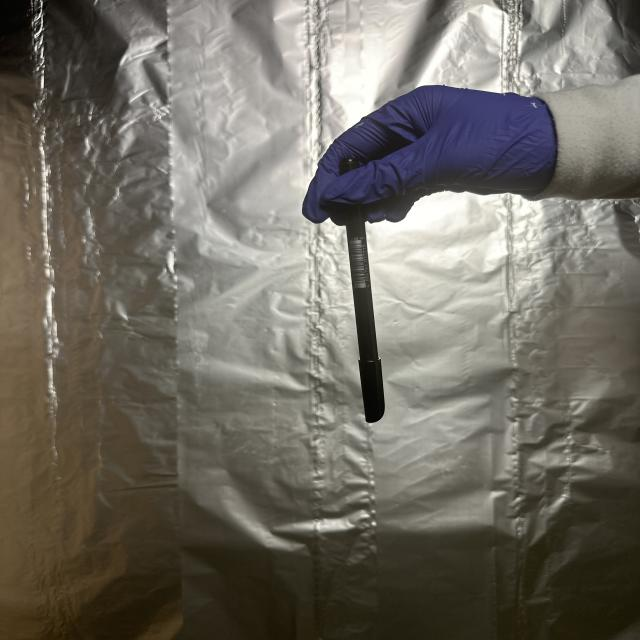gloves_contaminated: (303, 86, 557, 222)
